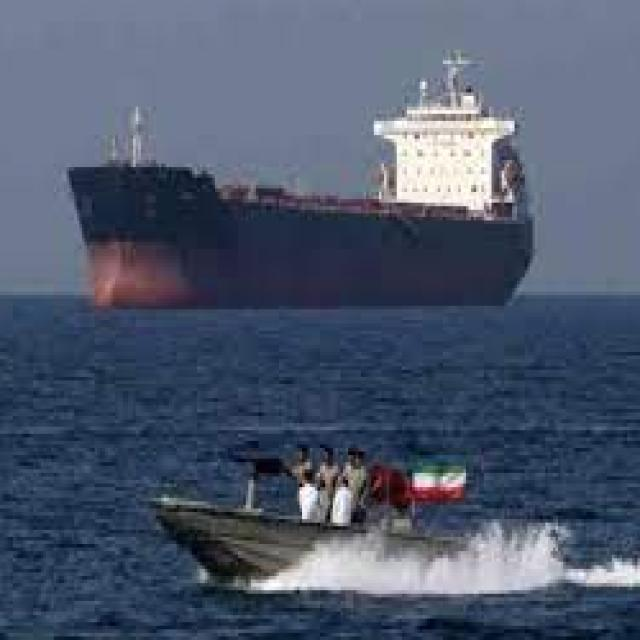cargoship: (61, 75, 542, 308)
houseboat: (156, 437, 554, 594)
